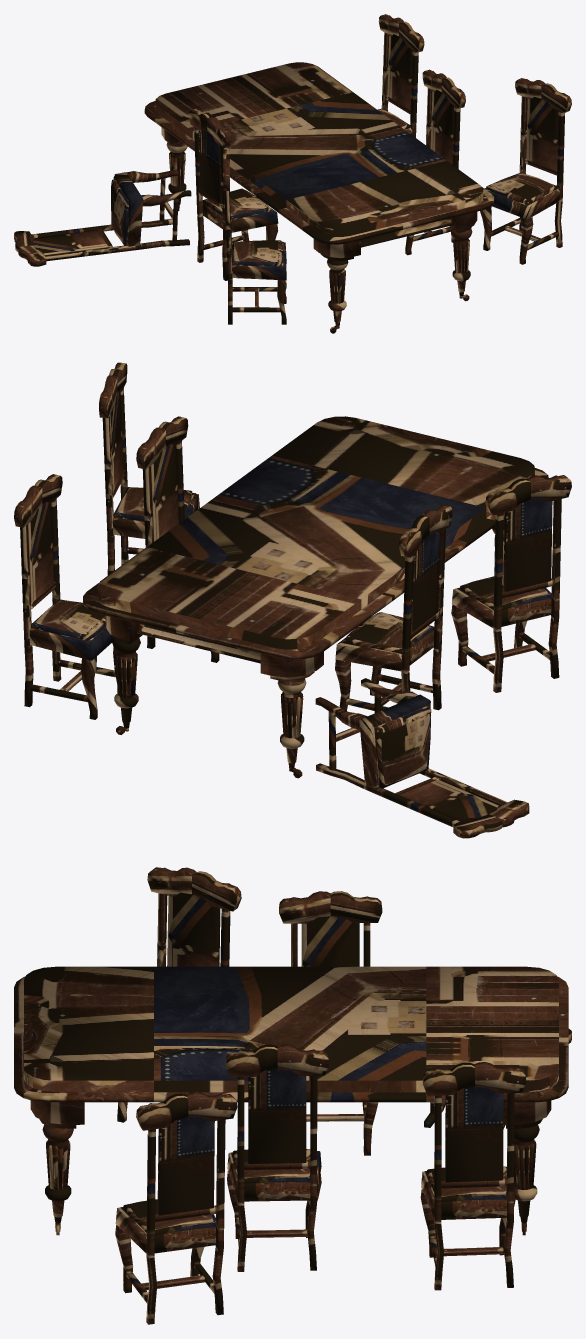
File: mesa-leitura.glb
3 views of the same model, one above another, from view 1: azimuth 30°, elevation 25°; view 2: azimuth 150°, elevation 25°; view 3: azimuth 270°, elevation 25° (orthographic). The views are drawn at different scales.
Parts seen in each view (by area): view 1: Export; view 2: Export; view 3: Export.
Part boxes in pixels (x1,y1,x2,y2): Export: (14,14,571,333); Export: (14,362,571,838); Export: (14,867,571,1324).
Size of the model in its own units: 6.55 by 2.3 by 5.13.
Materials: 2 (2 with a texture image).
